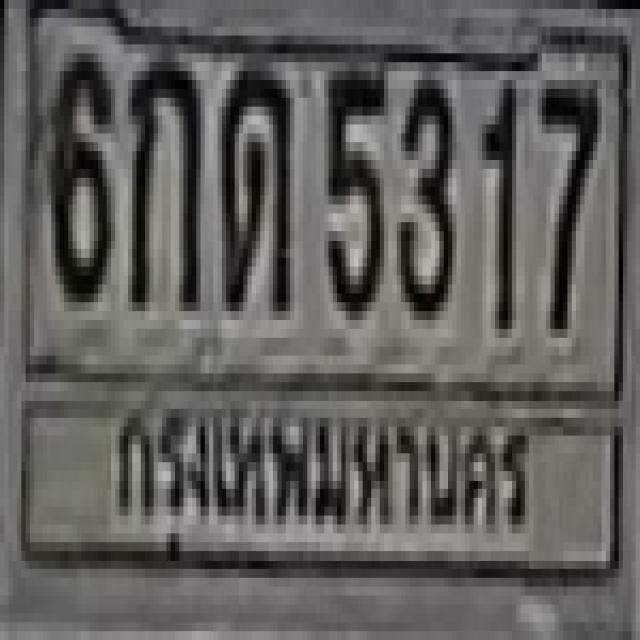-: (128, 45, 196, 302), (217, 58, 286, 298)
1: (478, 76, 512, 324)
3: (397, 71, 452, 311)
5: (324, 62, 384, 311)
6: (47, 44, 107, 294)
7: (538, 76, 597, 324)
BKK: (108, 381, 540, 577)
